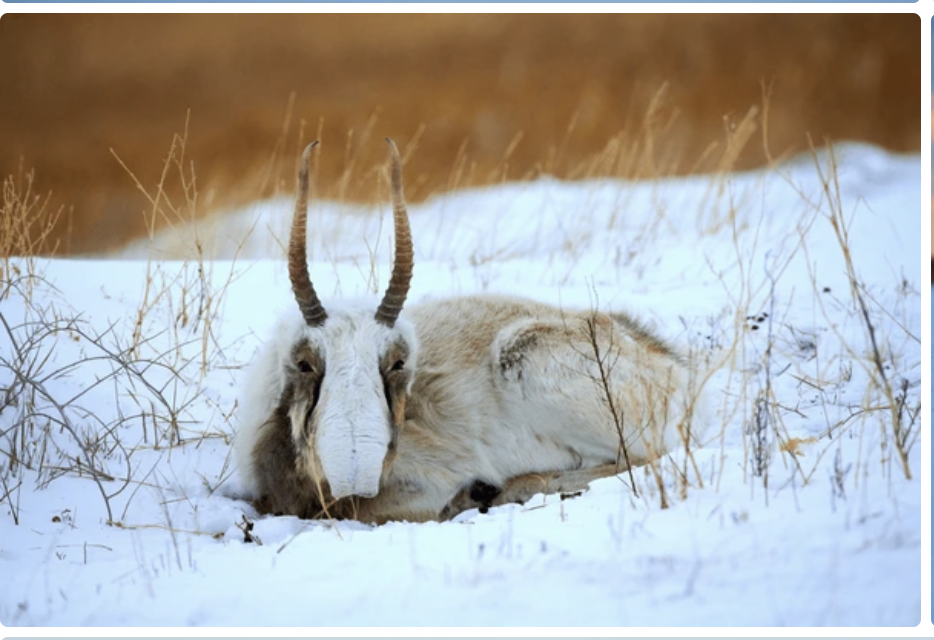saiga: (201, 118, 695, 498)
